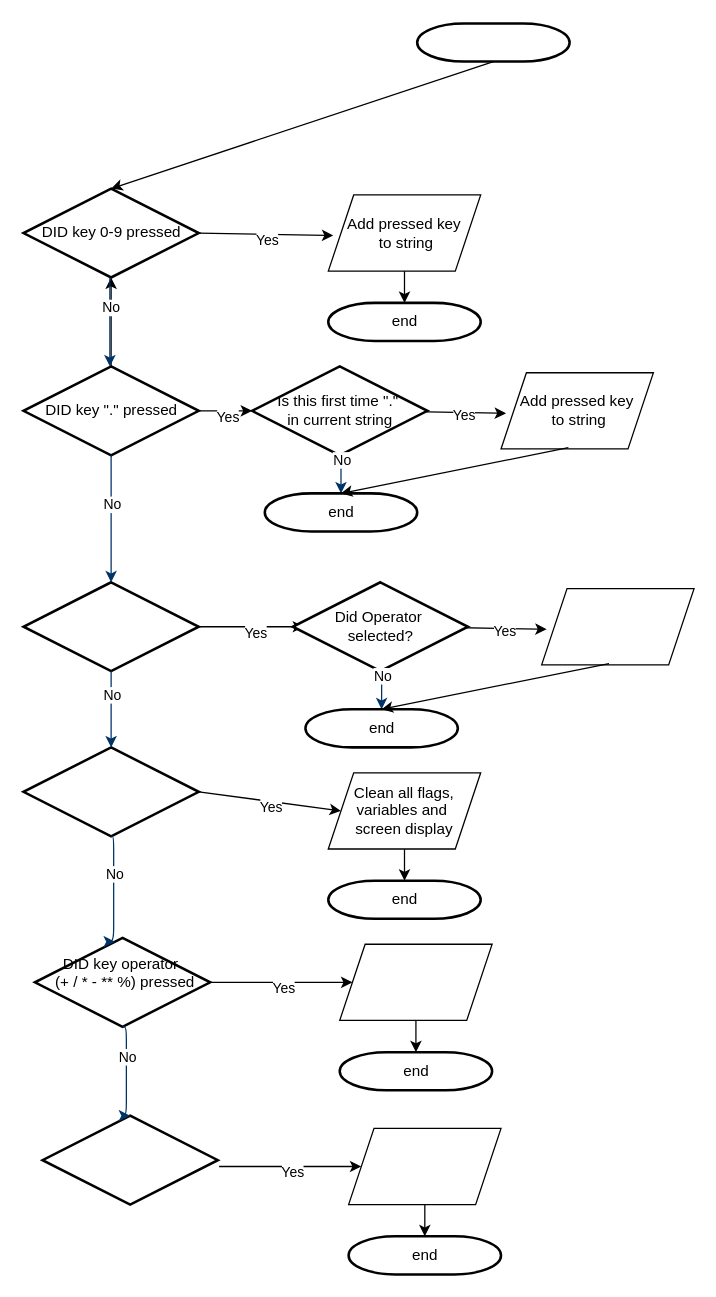
Image size: 716x1297. Some labels were removed from this diagram. The box of each missing label's shape, as (x1, y1, x2, y2) in pixels:
Calculate and present result: (540, 587, 694, 665)
DID key "=" pressed: (22, 580, 199, 672)
DID key "C" (Restart pressed: (22, 745, 199, 837)
DID key trig operstor (sin cos) pressed: (41, 1114, 218, 1205)
Execute calculation: (347, 1127, 501, 1205)
Key Pressed: (415, 22, 570, 62)
Save operator: (338, 943, 492, 1020)
